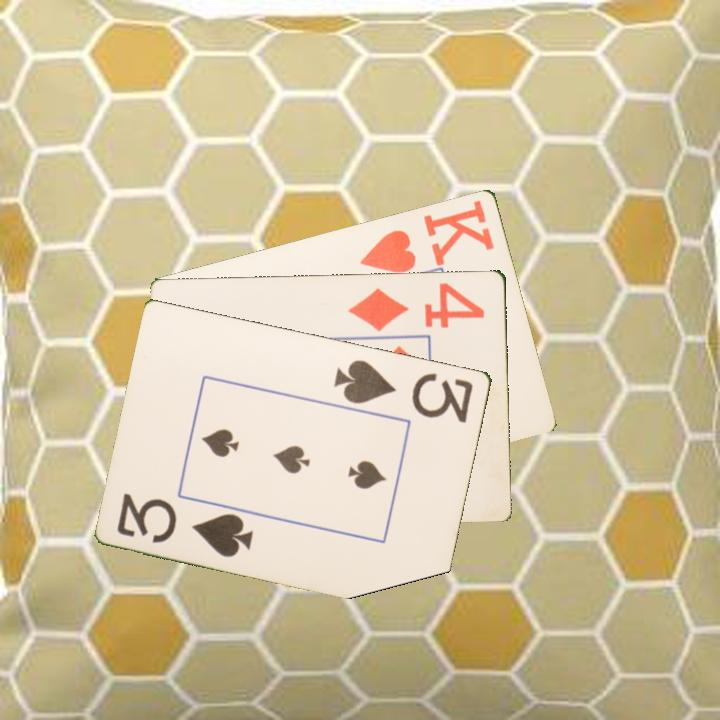3s: (331, 355, 477, 426), (114, 489, 257, 560)
4d: (345, 279, 488, 334)
Kh: (356, 195, 498, 276)
